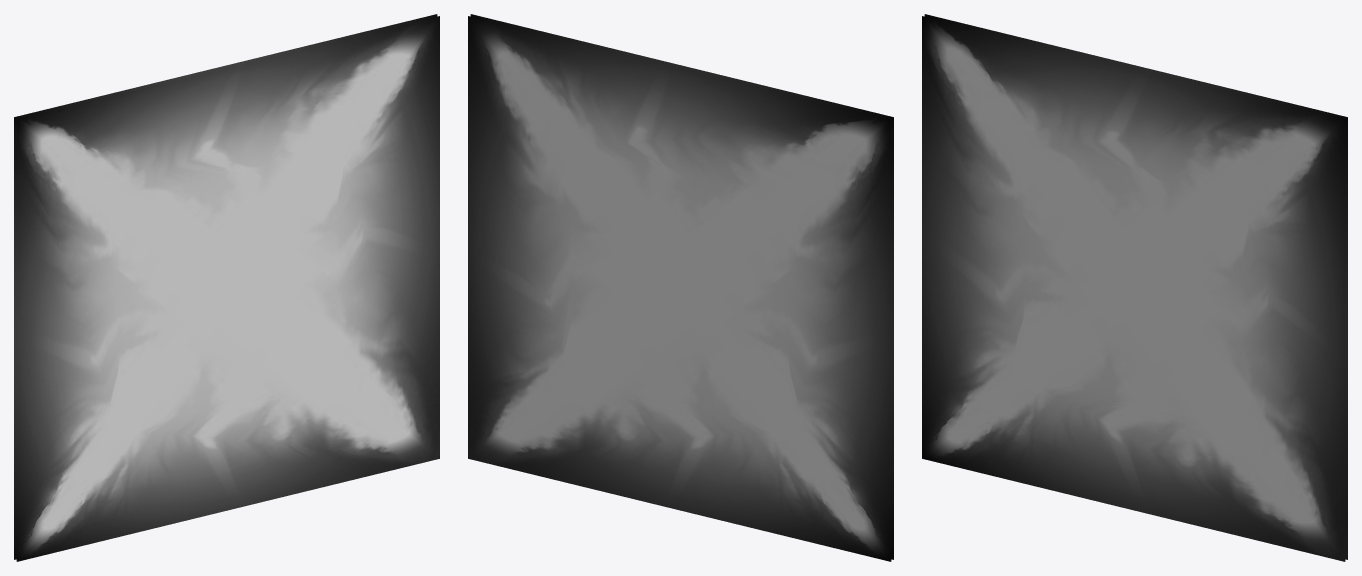
Rendered from MuzzleFlash_Front_B.FBX.
3 renders of one model, left to right at view 1: azimuth 30°, elevation 25°; view 2: azimuth 150°, elevation 25°; view 3: azimuth 330°, elevation 25°, orthographic.
Parts seen in each view (by area): view 1: MuzzleFlash_FrontB; view 2: MuzzleFlash_FrontB; view 3: MuzzleFlash_FrontB.
Boxes of the visible parts, x1,y1,x2,y2 form: MuzzleFlash_FrontB: (14, 14, 439, 561); MuzzleFlash_FrontB: (468, 14, 893, 561); MuzzleFlash_FrontB: (922, 14, 1347, 561).
Bounding box in the file's own units: 100 × 1.11 × 100.
